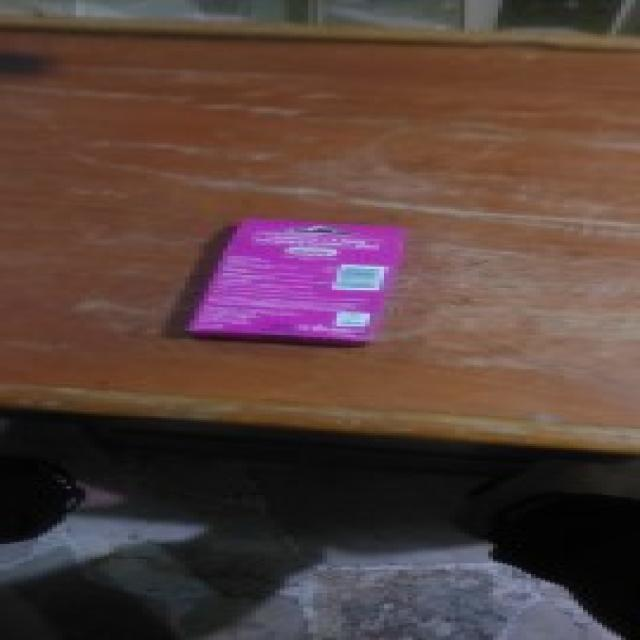Cacat: (185, 223, 408, 344)
